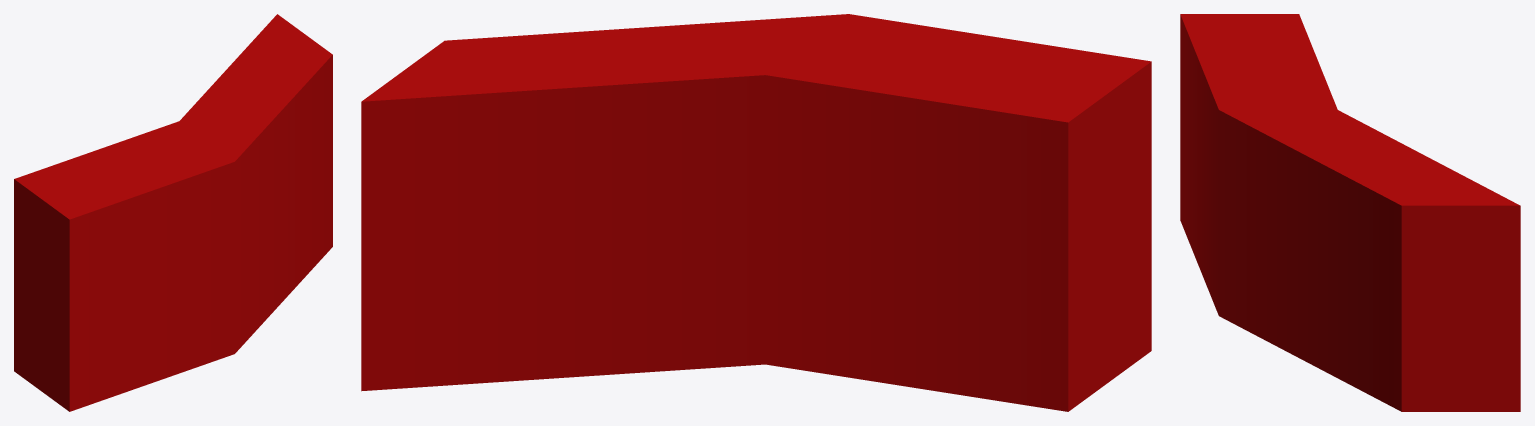
The model's file is UCX_tunnelWallConvexA.fbx.
3 views of the same model, side by side, from view 1: azimuth 30°, elevation 25°; view 2: azimuth 150°, elevation 25°; view 3: azimuth 270°, elevation 25° (orthographic). The views are drawn at different scales.
Parts seen in each view (by area): view 1: UCX_tunnelWallConvexA; view 2: UCX_tunnelWallConvexA; view 3: UCX_tunnelWallConvexA.
Boxes of the visible parts, <box> form: UCX_tunnelWallConvexA: <box>14,14,332,411</box>; UCX_tunnelWallConvexA: <box>361,14,1151,411</box>; UCX_tunnelWallConvexA: <box>1180,14,1520,411</box>.
Size of the model in its own units: 6 by 3.01 by 4.5.
